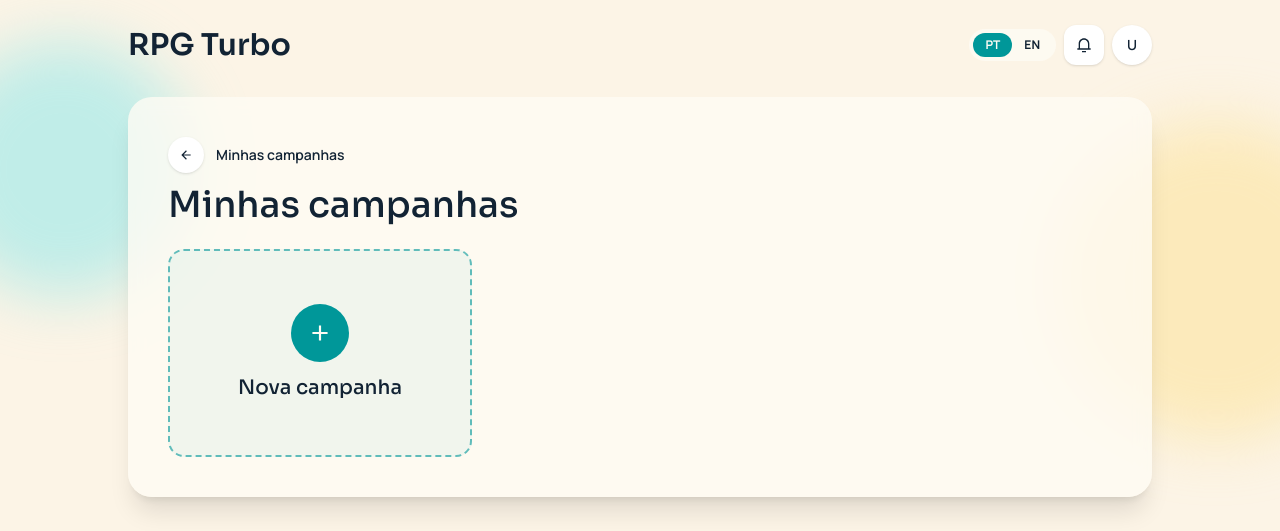
Test: App notifications › shows empty notifications state in header
Click the button named "Notificacoes" at (1084, 45), box [1064,25,1104,65]
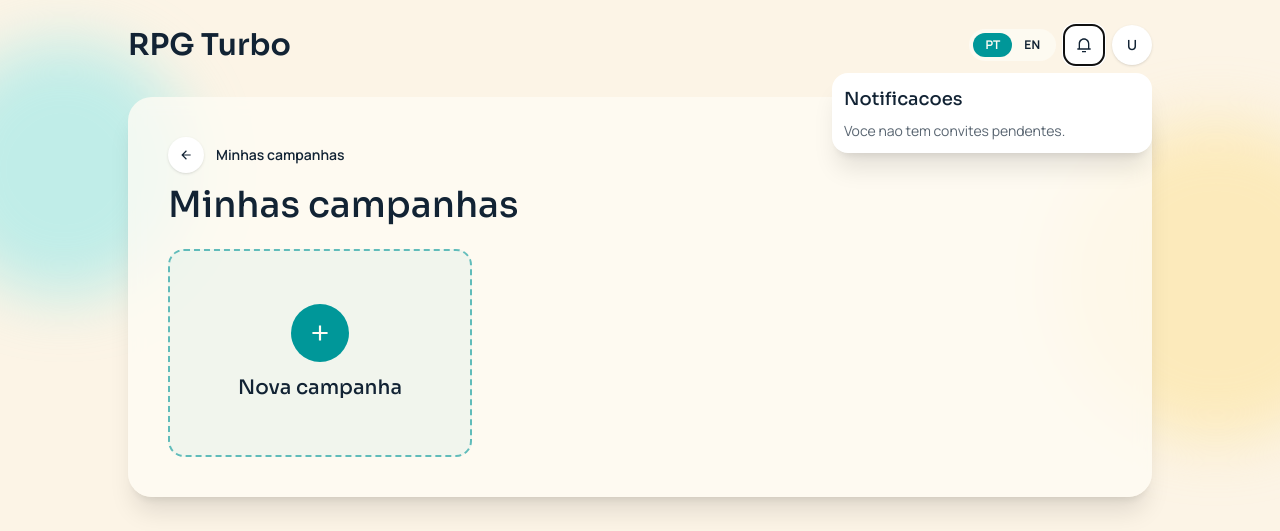
Now the text "Voce nao tem convites pendentes." is shown, box [844,121,1065,140]
